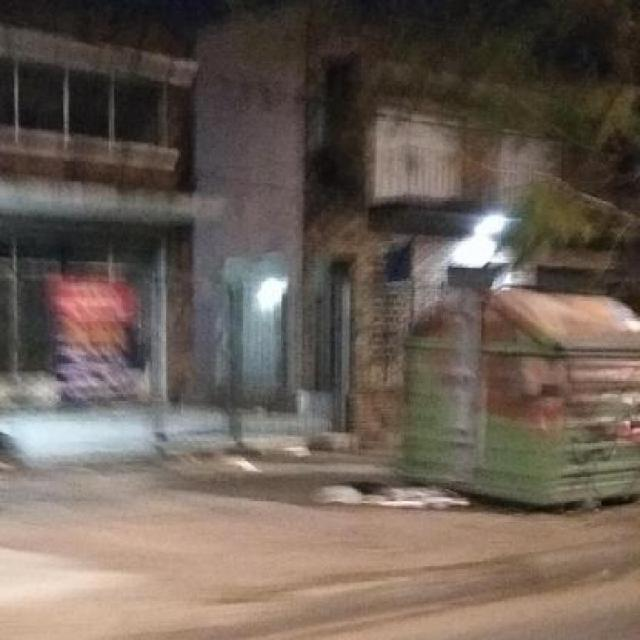garbage: (288, 452, 475, 540)
